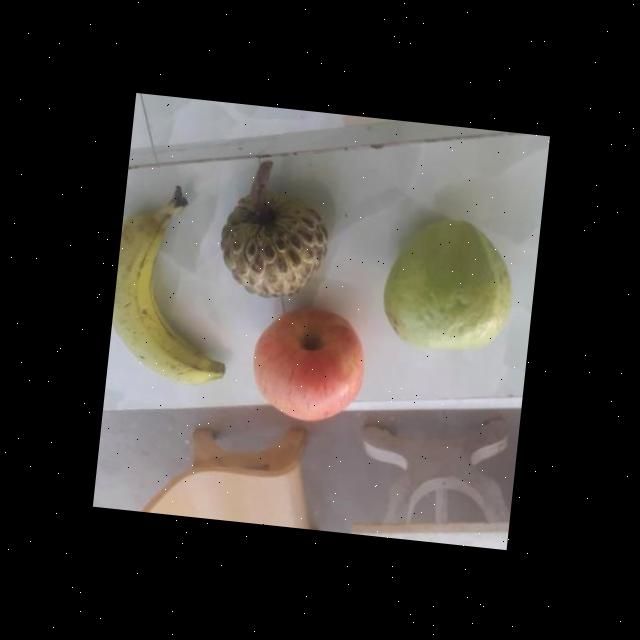Sakya fruit: (213, 166, 335, 302)
apple: (244, 298, 374, 426)
banana: (106, 194, 245, 386)
guava: (382, 215, 522, 352)
